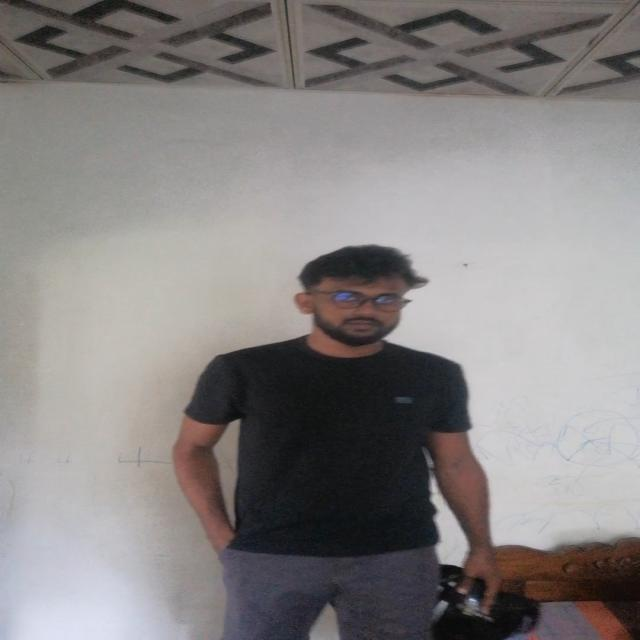Person: (194, 246, 475, 640)
